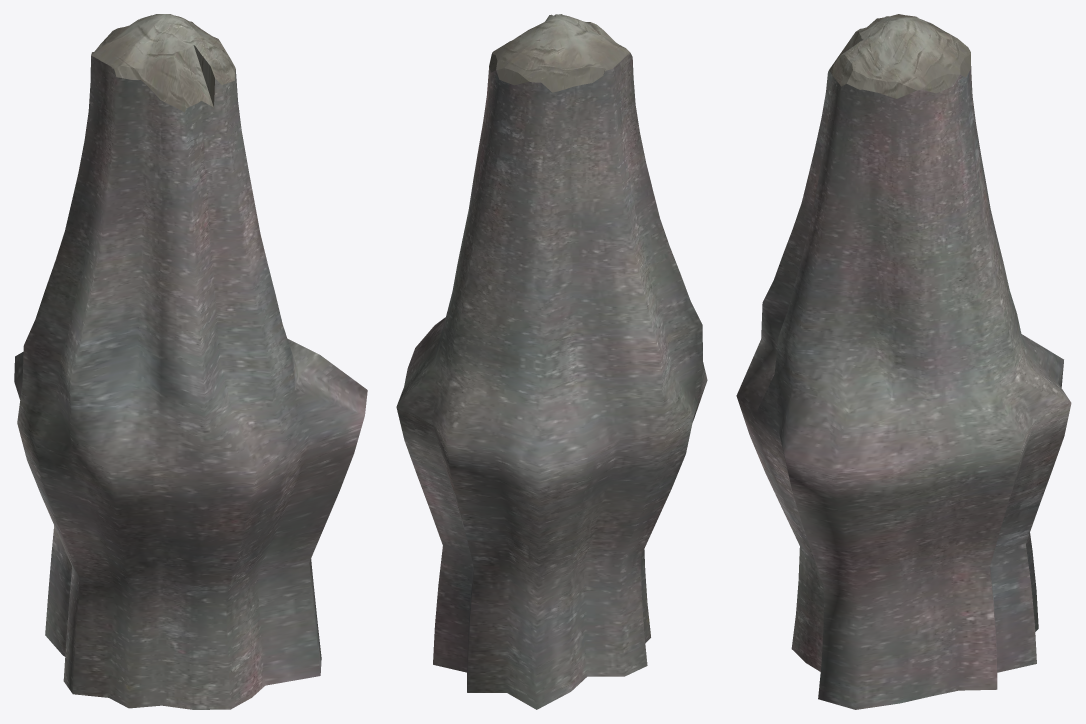
3 views of the same model, side by side, from view 1: azimuth 30°, elevation 25°; view 2: azimuth 150°, elevation 25°; view 3: azimuth 270°, elevation 25° (orthographic). The views are drawn at different scales.
Visible parts, largest first — view 1: SM_GF_Ash_Tree_02_stump_LOD0; view 2: SM_GF_Ash_Tree_02_stump_LOD0; view 3: SM_GF_Ash_Tree_02_stump_LOD0.
Part boxes in pixels (x1,y1,x2,y2): SM_GF_Ash_Tree_02_stump_LOD0: (14,14,367,709); SM_GF_Ash_Tree_02_stump_LOD0: (396,14,707,709); SM_GF_Ash_Tree_02_stump_LOD0: (736,14,1071,709).
Bounding box in the file's own units: 1.09 × 2.29 × 1.1.
Materials: 1 (1 with a texture image).
